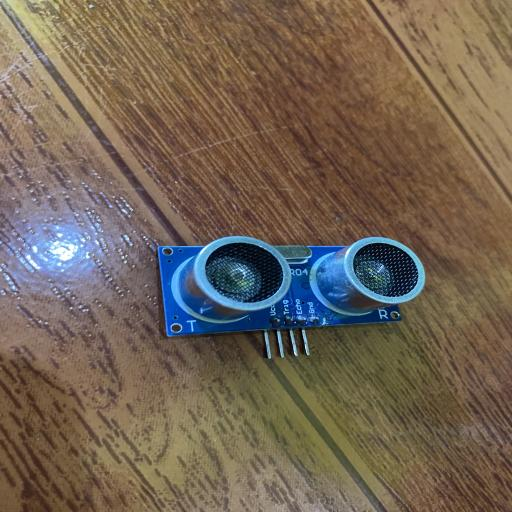Ultrasonic Sensor: (157, 236, 426, 359)
